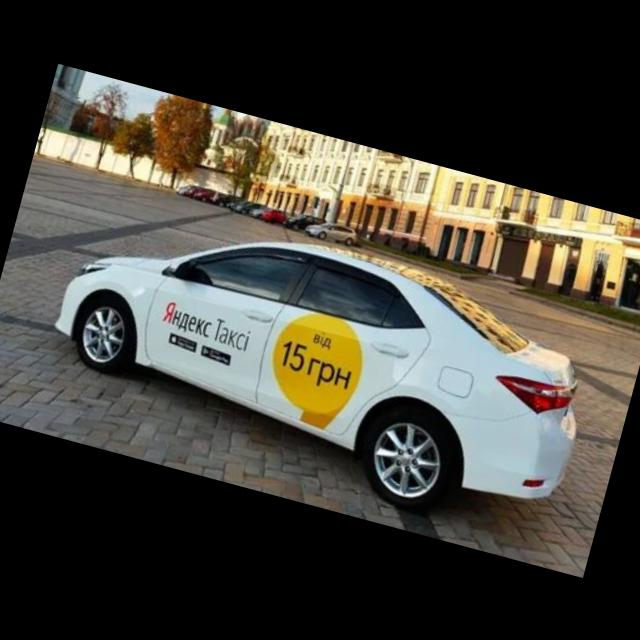taxi: (33, 179, 609, 546)
